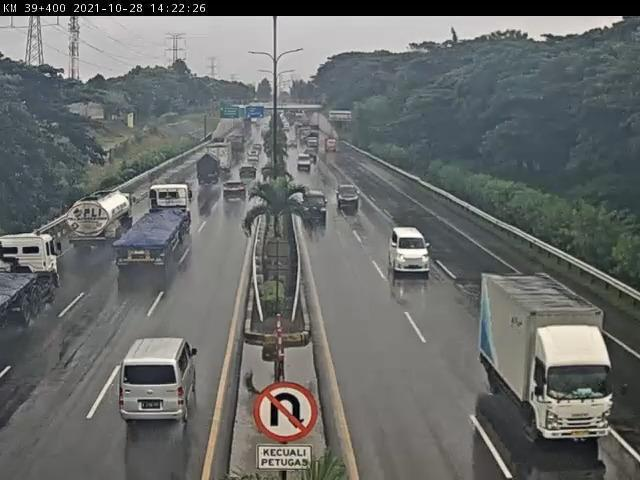car: (121, 337, 202, 425), (389, 227, 433, 277), (303, 189, 328, 222), (221, 179, 250, 205), (337, 183, 363, 209), (238, 161, 260, 181), (296, 154, 314, 172)
truck: (475, 268, 612, 448), (115, 185, 193, 273), (1, 231, 59, 327), (64, 190, 136, 249), (197, 156, 221, 187)
